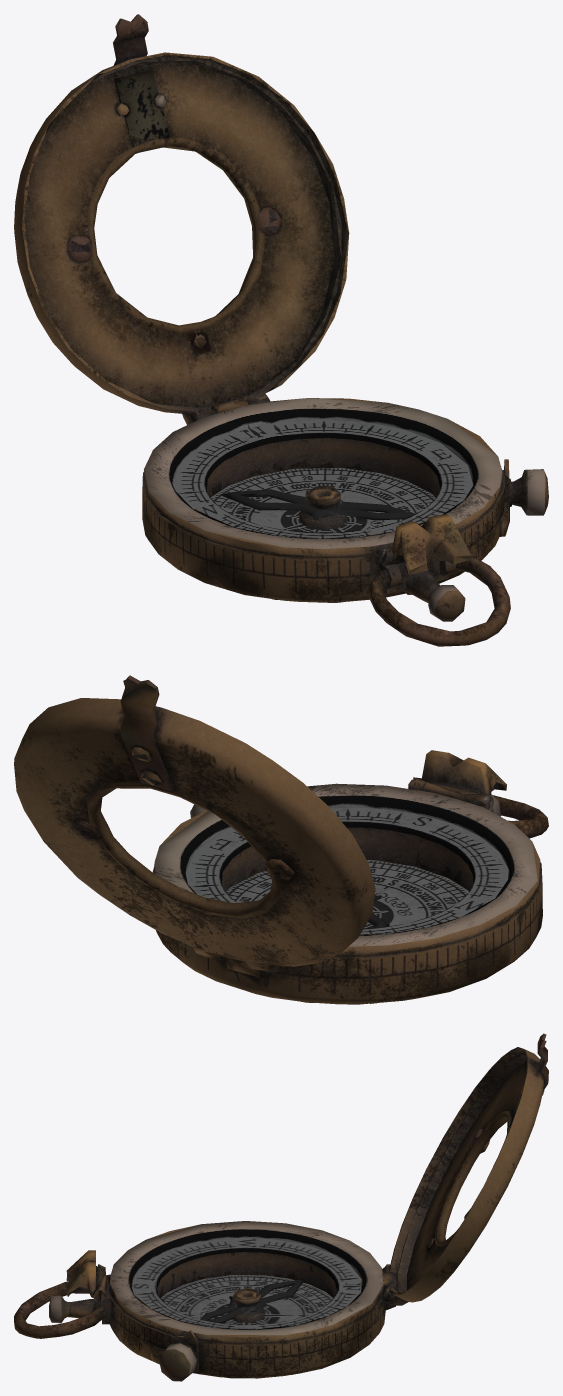
File: scan_compass.glb
3 renders of one model, top to bottom at view 1: azimuth 30°, elevation 25°; view 2: azimuth 150°, elevation 25°; view 3: azimuth 270°, elevation 25°, orthographic. The views are drawn at different scales.
Parts seen in each view (by area): view 1: scan_compass; view 2: scan_compass; view 3: scan_compass.
Boxes of the visible parts, x1=… form: scan_compass: x1=14, y1=14, x2=548, y2=646; scan_compass: x1=14, y1=675, x2=548, y2=1004; scan_compass: x1=14, y1=1033, x2=548, y2=1381.
Bounding box in the file's own units: 0.0813 × 0.0867 × 0.1442.
1 material, 1 textured.
